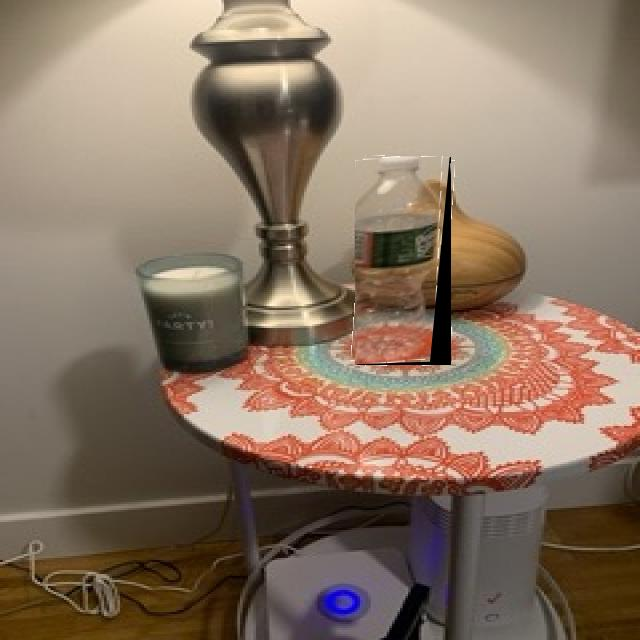water_bottle: (355, 157, 451, 365), (357, 157, 450, 365)
